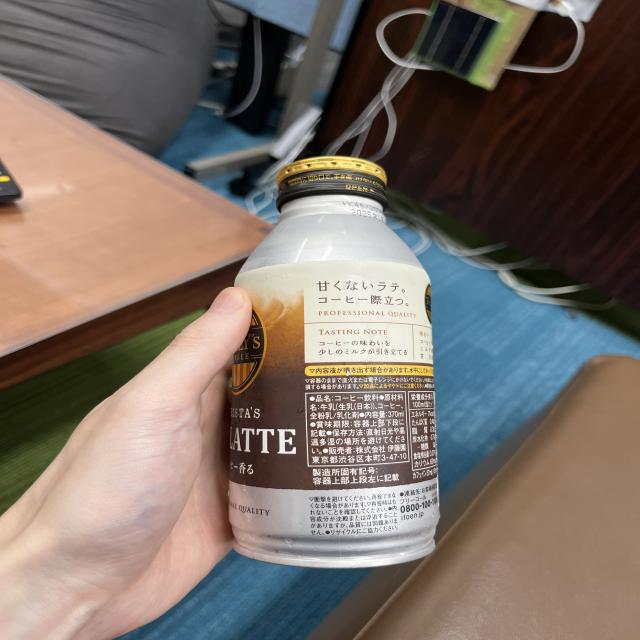coffee-latte: (228, 155, 441, 567)
